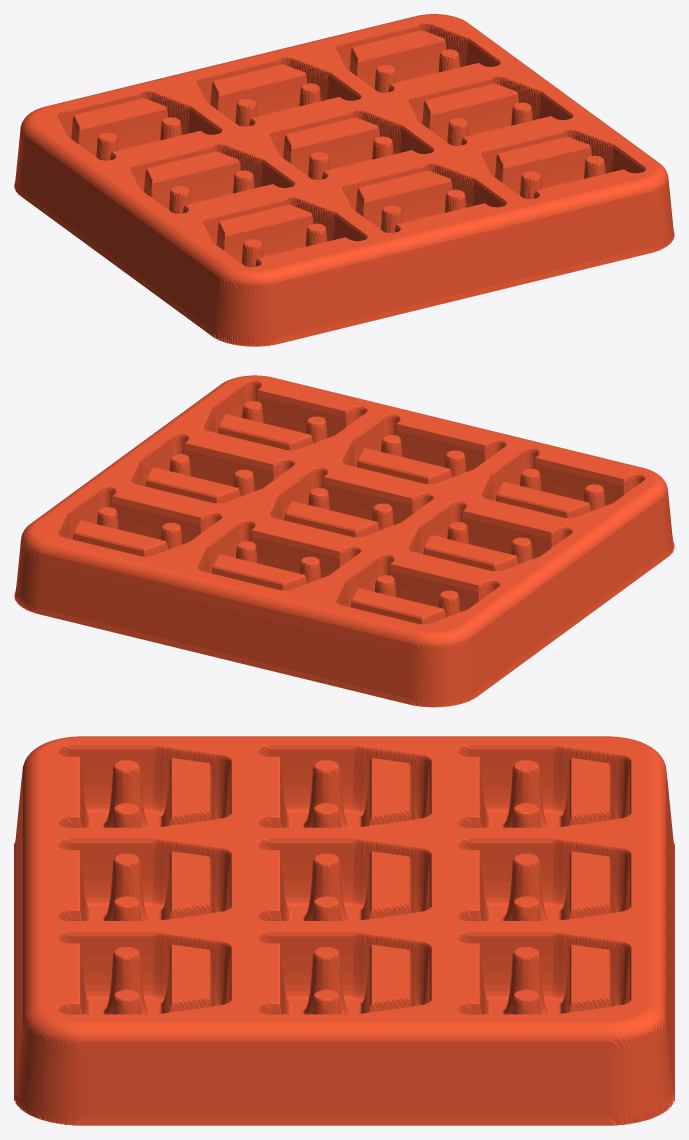
Rendered from mold.glb.
3 views of the same model, one above another, from view 1: azimuth 30°, elevation 25°; view 2: azimuth 150°, elevation 25°; view 3: azimuth 270°, elevation 25° (orthographic). The views are drawn at different scales.
Parts seen in each view (by area): view 1: geometry_0; view 2: geometry_0; view 3: geometry_0.
Part boxes in pixels (x1=…): geometry_0: x1=14, y1=14, x2=674, y2=346; geometry_0: x1=14, y1=375, x2=674, y2=707; geometry_0: x1=14, y1=736, x2=674, y2=1125.
Bounding box in the file's own units: 0.0964 × 0.0136 × 0.088.
